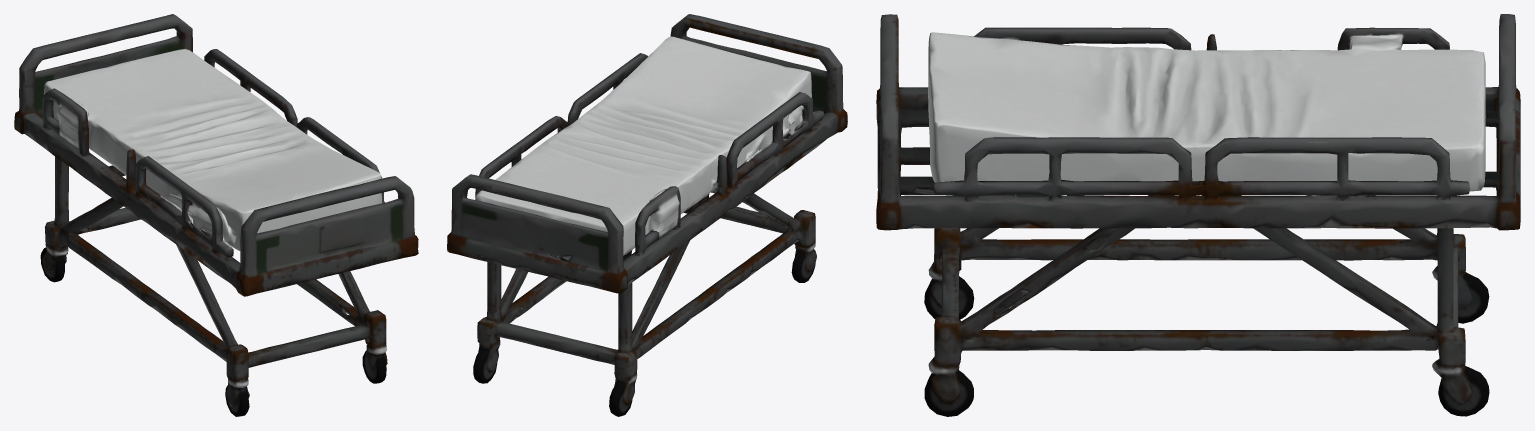
The model's file is abandoned-hospital-bed.glb.
3 views of the same model, side by side, from view 1: azimuth 30°, elevation 25°; view 2: azimuth 150°, elevation 25°; view 3: azimuth 270°, elevation 25° (orthographic). The views are drawn at different scales.
Parts seen in each view (by area): view 1: world; view 2: world; view 3: world.
Boxes of the visible parts, left/top/right/bottom form: world: left=14, top=14, right=418, bottom=416; world: left=447, top=14, right=847, bottom=416; world: left=876, top=14, right=1520, bottom=416.
Size of the model in its own units: 0.4424 by 0.5276 by 1.
Materials: 1 (1 with a texture image).
